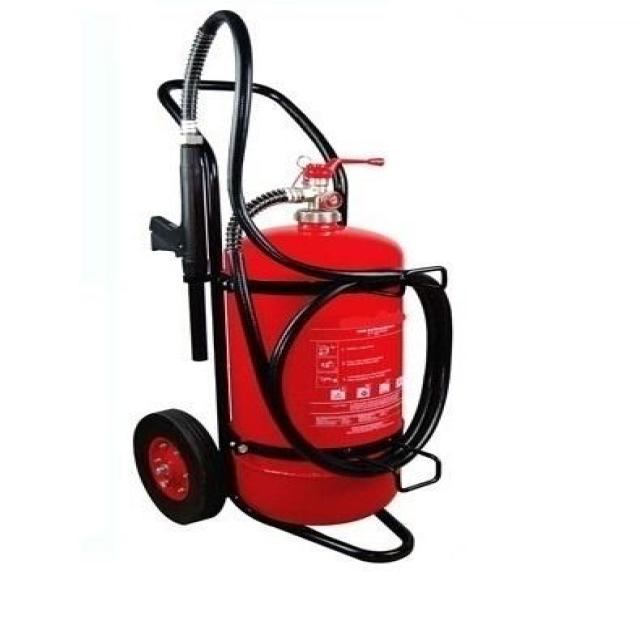fire_extinguisher: (137, 5, 487, 530)
